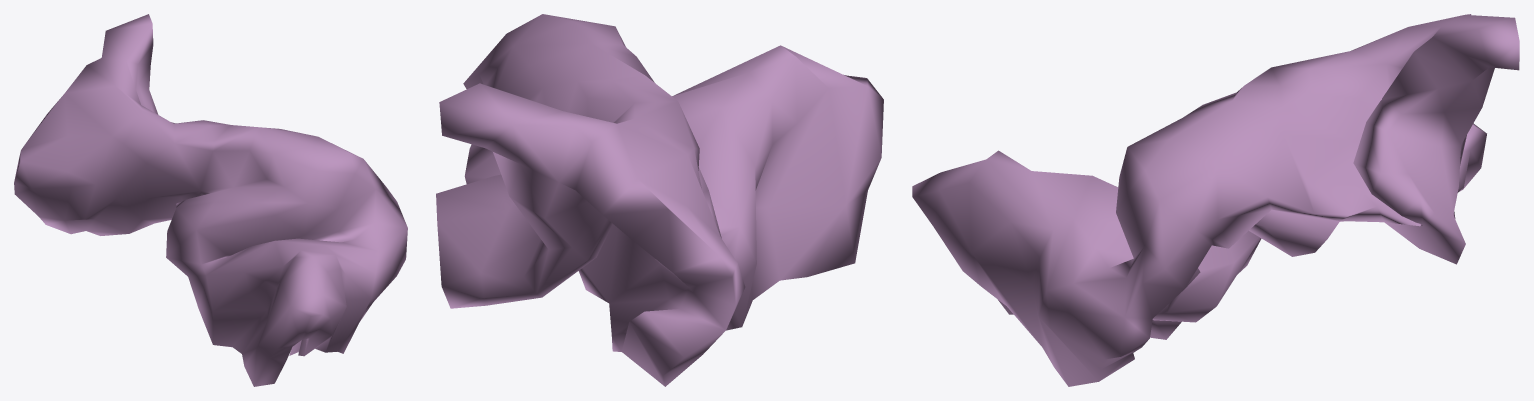
The picture shows the model from 3 angles, left to right: view 1: azimuth 30°, elevation 25°; view 2: azimuth 150°, elevation 25°; view 3: azimuth 270°, elevation 25°; orthographic projection. The views are drawn at different scales.
Parts seen in each view (by area): view 1: 右侧枕上回; view 2: 右侧枕上回; view 3: 右侧枕上回.
Boxes of the visible parts, left/top/right/bottom form: 右侧枕上回: left=14, top=14, right=407, bottom=386; 右侧枕上回: left=436, top=14, right=883, bottom=386; 右侧枕上回: left=912, top=14, right=1519, bottom=386.
Size of the model in its own units: 0.0435 by 0.035 by 0.0585.
